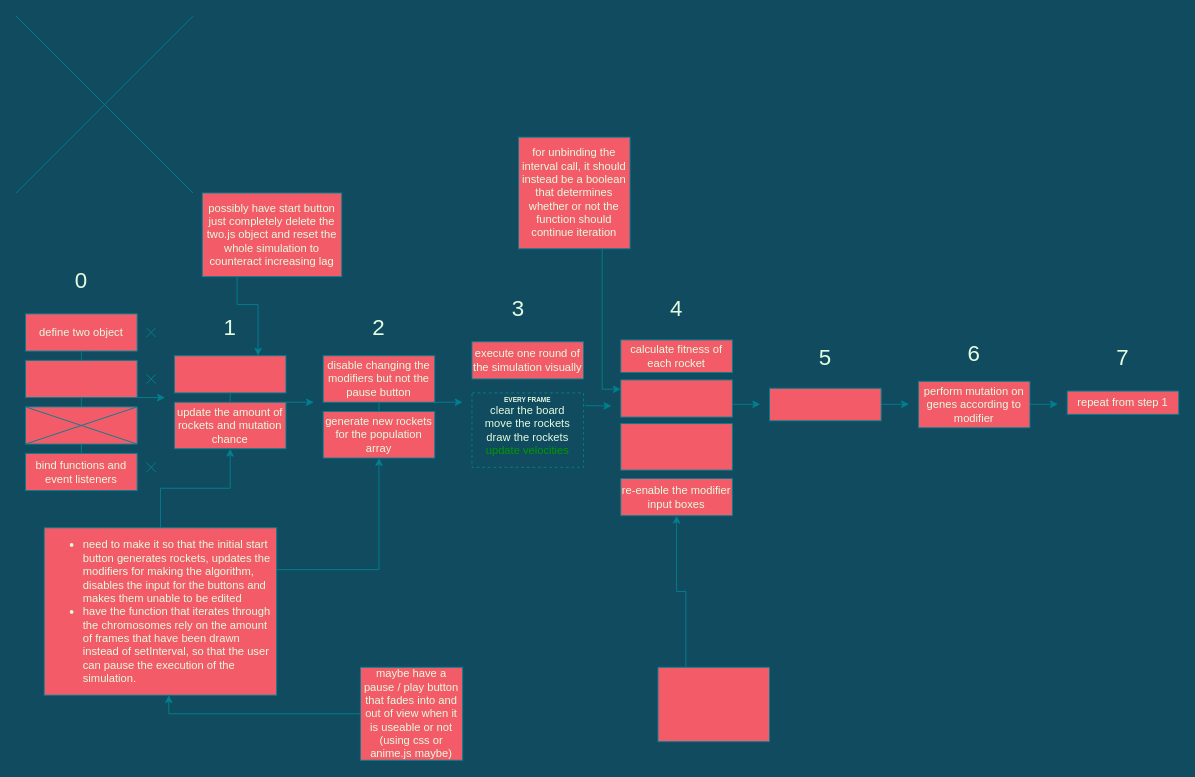
This 1195x777 diagram has some shape labels left out. The shapes that lost their labels are listed below. From the top down, each one's box as (x1, y1, x2, y2) in pixels, then its label:
(25, 359, 137, 398): assign div as drawing board
(173, 355, 286, 393): user clicks start button
(620, 379, 732, 417): unbind the interval call
(769, 387, 881, 421): reproduction through corssover
(25, 406, 137, 444): set interval call for updateVelocity
(620, 423, 732, 470): change start button text back to start since its finished
(657, 666, 770, 742): have a boolean like shouldUpdate be set to false when they are disabled
